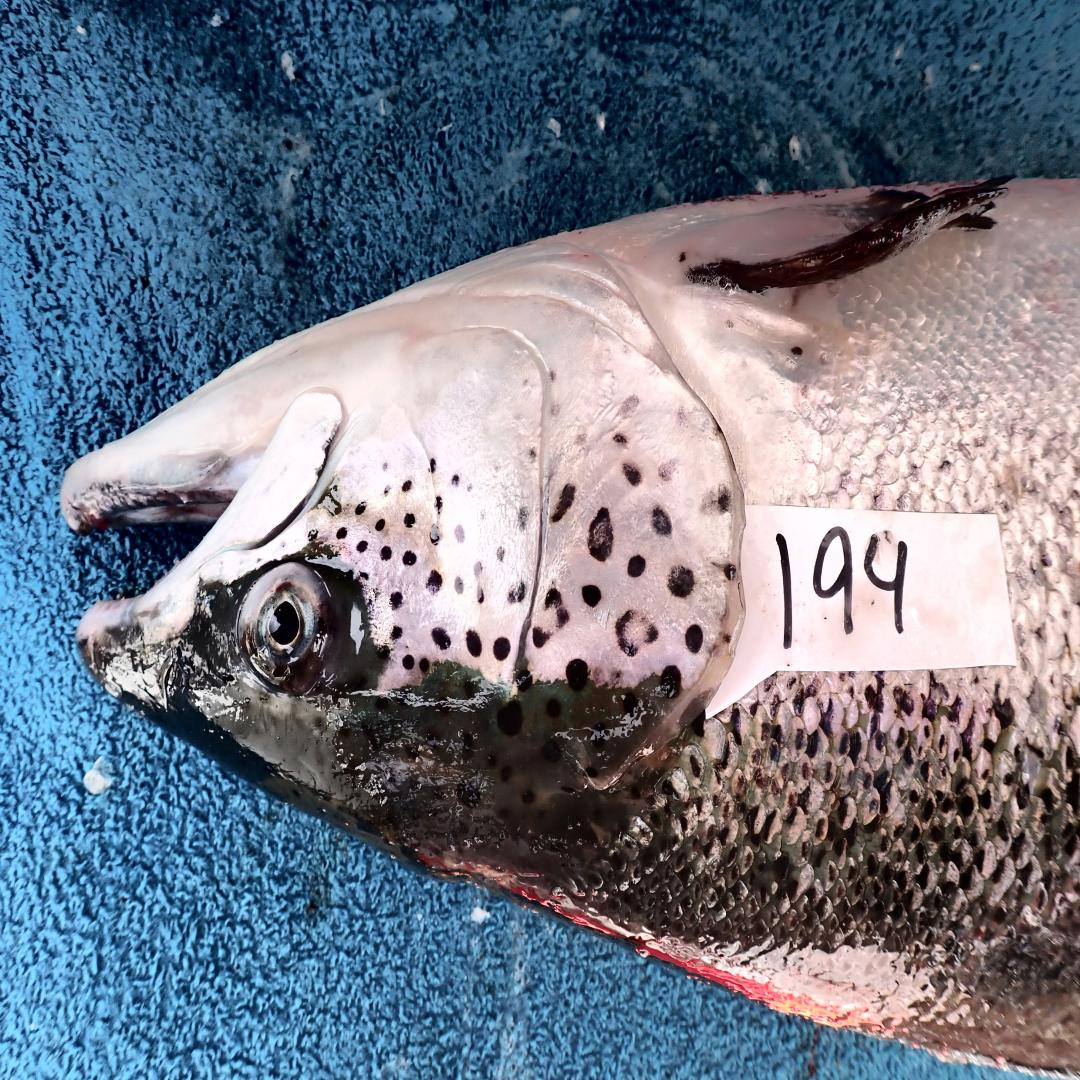spot: (616, 610, 658, 658), (589, 506, 614, 562), (701, 485, 733, 517), (544, 588, 570, 627), (551, 484, 576, 523), (565, 658, 589, 692), (669, 565, 694, 596), (660, 667, 681, 698), (652, 506, 673, 534), (686, 624, 702, 652), (432, 627, 451, 650), (582, 585, 601, 608), (626, 554, 645, 577), (622, 464, 641, 487), (515, 669, 534, 692), (475, 561, 485, 603), (619, 395, 639, 416), (508, 583, 527, 605), (656, 462, 675, 483), (466, 630, 481, 655), (426, 571, 443, 593), (494, 638, 510, 661), (516, 507, 529, 532), (532, 627, 548, 647), (378, 543, 393, 562), (430, 523, 441, 546), (390, 591, 403, 610), (723, 564, 736, 582), (374, 518, 388, 534), (677, 409, 688, 428), (403, 551, 416, 565), (454, 526, 464, 543), (355, 541, 368, 553), (403, 515, 416, 526), (549, 404, 560, 417), (336, 527, 347, 540), (308, 529, 319, 542), (403, 655, 413, 669), (420, 658, 430, 672), (529, 447, 537, 464), (451, 472, 460, 487), (354, 503, 365, 515), (614, 433, 626, 444), (456, 577, 464, 593), (392, 627, 403, 638), (437, 495, 443, 515), (496, 548, 504, 562), (430, 459, 437, 473), (403, 481, 411, 492), (383, 485, 391, 496), (380, 461, 387, 472), (549, 370, 555, 382), (468, 482, 473, 492)
